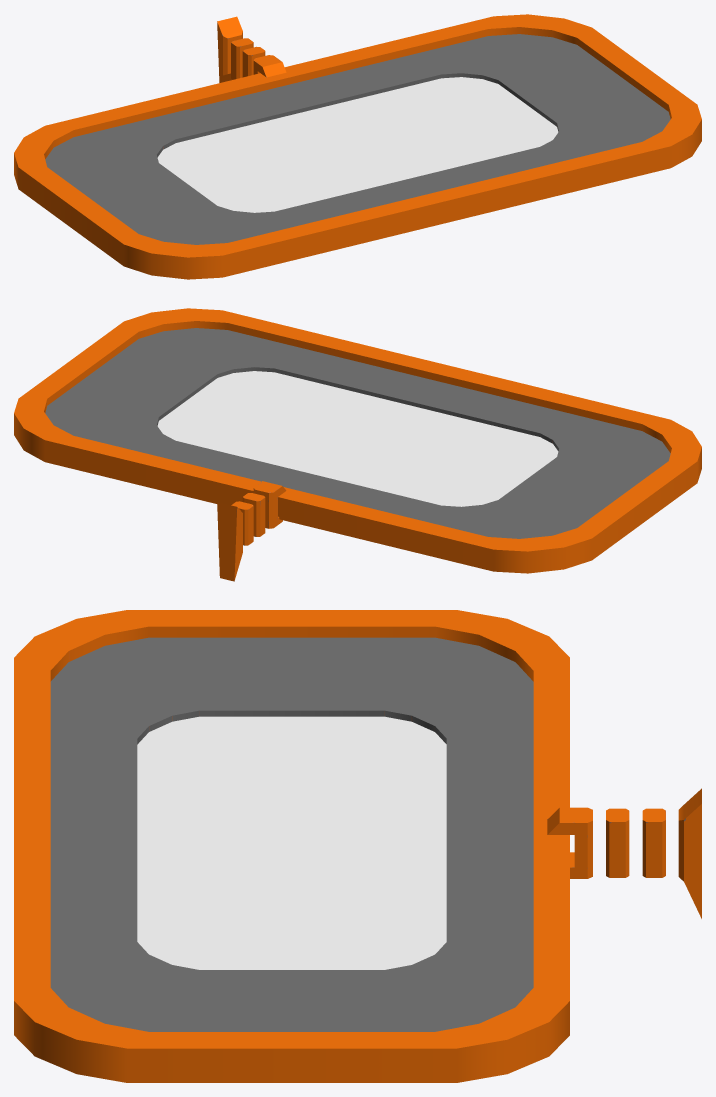
The model's file is Lift_Rectangle.fbx.
3 views of the same model, one above another, from view 1: azimuth 30°, elevation 25°; view 2: azimuth 150°, elevation 25°; view 3: azimuth 270°, elevation 25° (orthographic). The views are drawn at different scales.
Parts seen in each view (by area): view 1: Lift_Rectangle; view 2: Lift_Rectangle; view 3: Lift_Rectangle.
Part boxes in pixels (x1,y1,x2,y2): Lift_Rectangle: [14, 14, 701, 279]; Lift_Rectangle: [14, 308, 701, 581]; Lift_Rectangle: [14, 610, 701, 1082].
Size of the model in its own units: 3.24 by 0.4075 by 2.15.
1 material, 1 textured.
